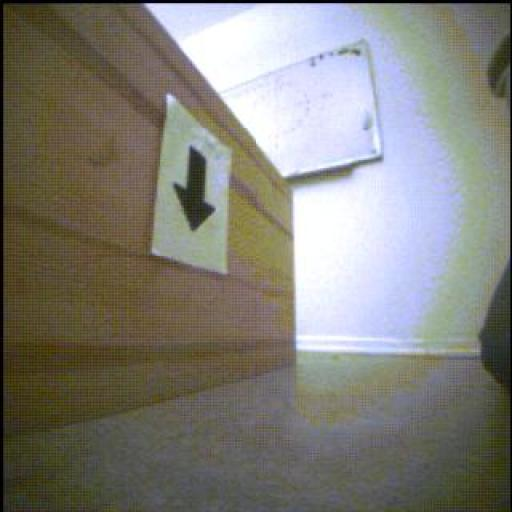arrow: (176, 149, 216, 232)
